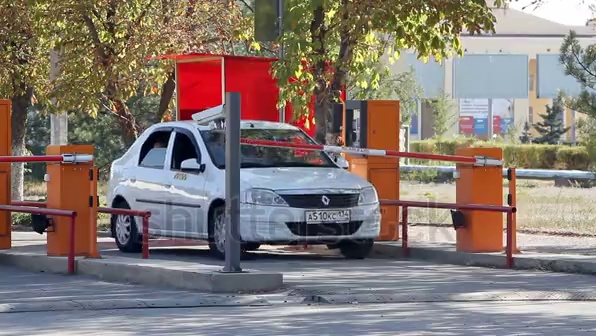licenseplate: (302, 211, 355, 227)
